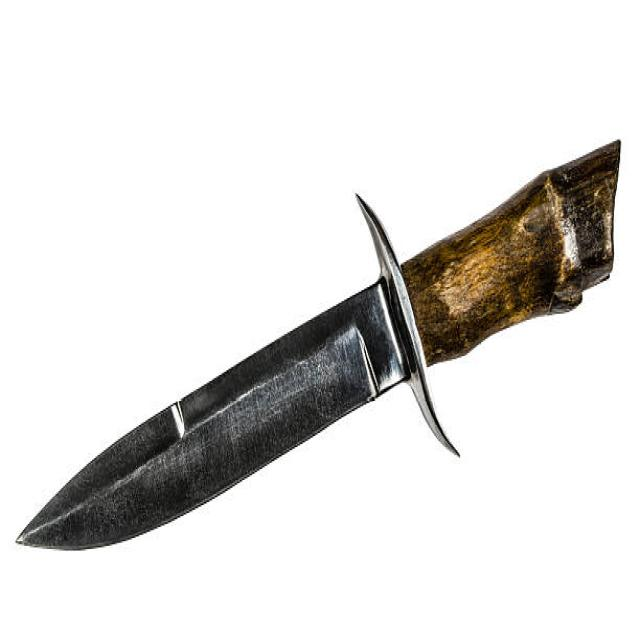knife: (8, 134, 627, 556)
